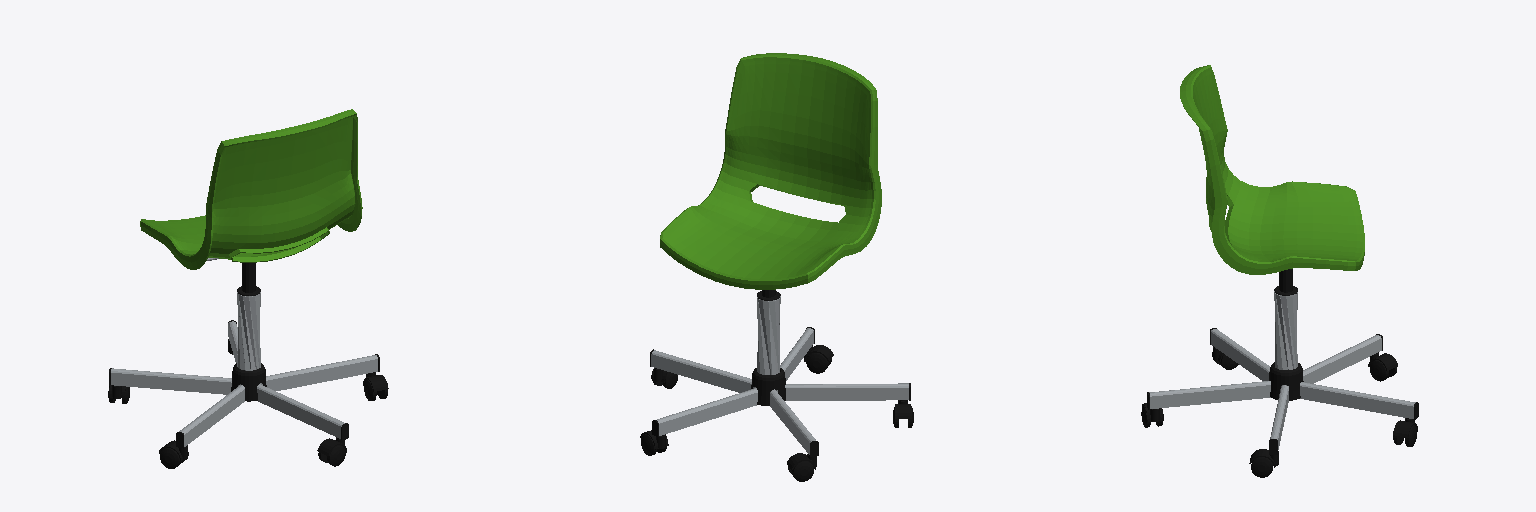
The picture shows the model from 3 angles: view 1: azimuth 30°, elevation 25°; view 2: azimuth 150°, elevation 25°; view 3: azimuth 270°, elevation 25°; orthographic projection.
Parts seen in each view (by area): view 1: Mesh2 Group2 SNILLE_IKEA1 Model, Mesh8 Group6 SNILLE_IKEA1 Model, Mesh7 Group5 SNILLE_IKEA1 Model, Mesh1 Group1 SNILLE_IKEA1 Model, Mesh3 Group3 SNILLE_IKEA1 Model; view 2: Mesh2 Group2 SNILLE_IKEA1 Model, Mesh8 Group6 SNILLE_IKEA1 Model, Mesh7 Group5 SNILLE_IKEA1 Model, Mesh1 Group1 SNILLE_IKEA1 Model; view 3: Mesh2 Group2 SNILLE_IKEA1 Model, Mesh8 Group6 SNILLE_IKEA1 Model, Mesh7 Group5 SNILLE_IKEA1 Model, Mesh1 Group1 SNILLE_IKEA1 Model.
Part boxes in pixels (x1,y1,x2,y2): Mesh2 Group2 SNILLE_IKEA1 Model: (140, 109, 362, 269); Mesh8 Group6 SNILLE_IKEA1 Model: (109, 320, 379, 448); Mesh7 Group5 SNILLE_IKEA1 Model: (237, 292, 260, 370); Mesh1 Group1 SNILLE_IKEA1 Model: (231, 363, 266, 401); Mesh3 Group3 SNILLE_IKEA1 Model: (237, 263, 260, 295); Mesh2 Group2 SNILLE_IKEA1 Model: (660, 53, 881, 289); Mesh8 Group6 SNILLE_IKEA1 Model: (650, 327, 910, 456); Mesh7 Group5 SNILLE_IKEA1 Model: (757, 296, 780, 374); Mesh1 Group1 SNILLE_IKEA1 Model: (751, 368, 785, 405); Mesh2 Group2 SNILLE_IKEA1 Model: (1180, 65, 1364, 274); Mesh8 Group6 SNILLE_IKEA1 Model: (1147, 328, 1418, 454); Mesh7 Group5 SNILLE_IKEA1 Model: (1274, 291, 1297, 369); Mesh1 Group1 SNILLE_IKEA1 Model: (1269, 362, 1303, 400).
Bounding box in the file's own units: 0.5935 × 0.7709 × 0.5905.